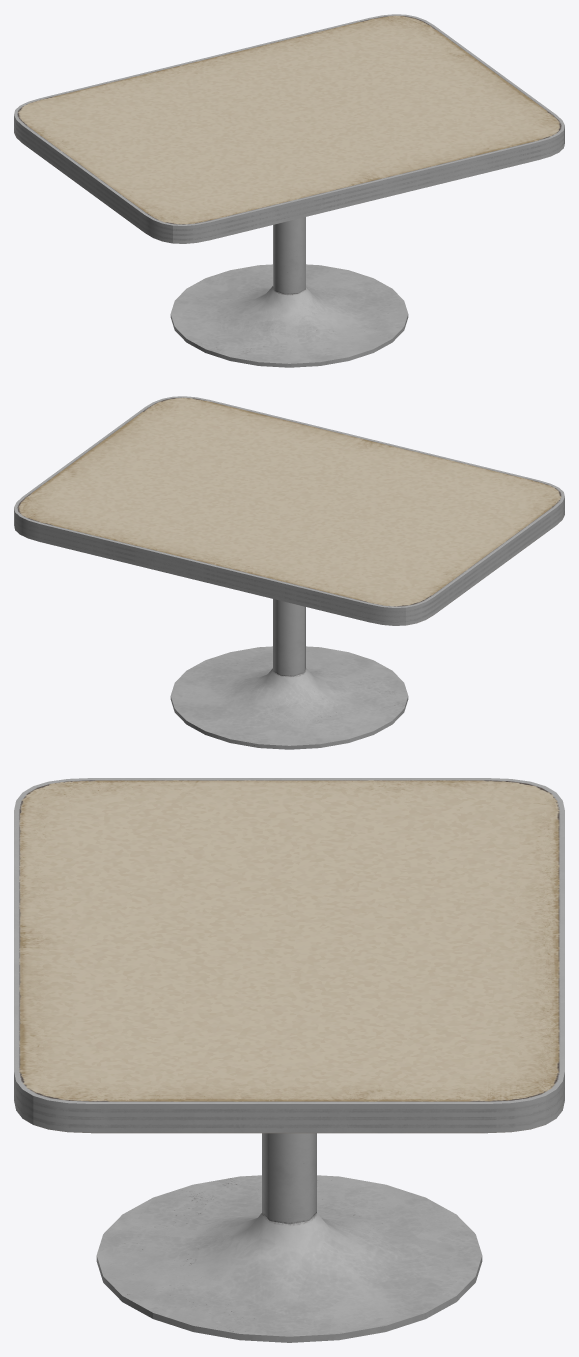
The model's file is TableRect.FBX.
The picture shows the model from 3 angles, top to bottom: view 1: azimuth 30°, elevation 25°; view 2: azimuth 150°, elevation 25°; view 3: azimuth 270°, elevation 25°; orthographic projection. The views are drawn at different scales.
Visible parts, largest first — view 1: TableRect_LOD0; view 2: TableRect_LOD0; view 3: TableRect_LOD0.
Part boxes in pixels (<box>): TableRect_LOD0: <box>14,14,564,367</box>; TableRect_LOD0: <box>14,396,564,749</box>; TableRect_LOD0: <box>14,778,564,1342</box>.
Size of what is drawn, in the model's own units: 168 by 77 by 120.
